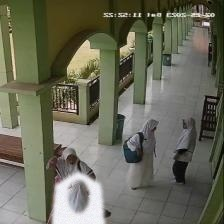Mukena: (51, 170, 105, 224)
